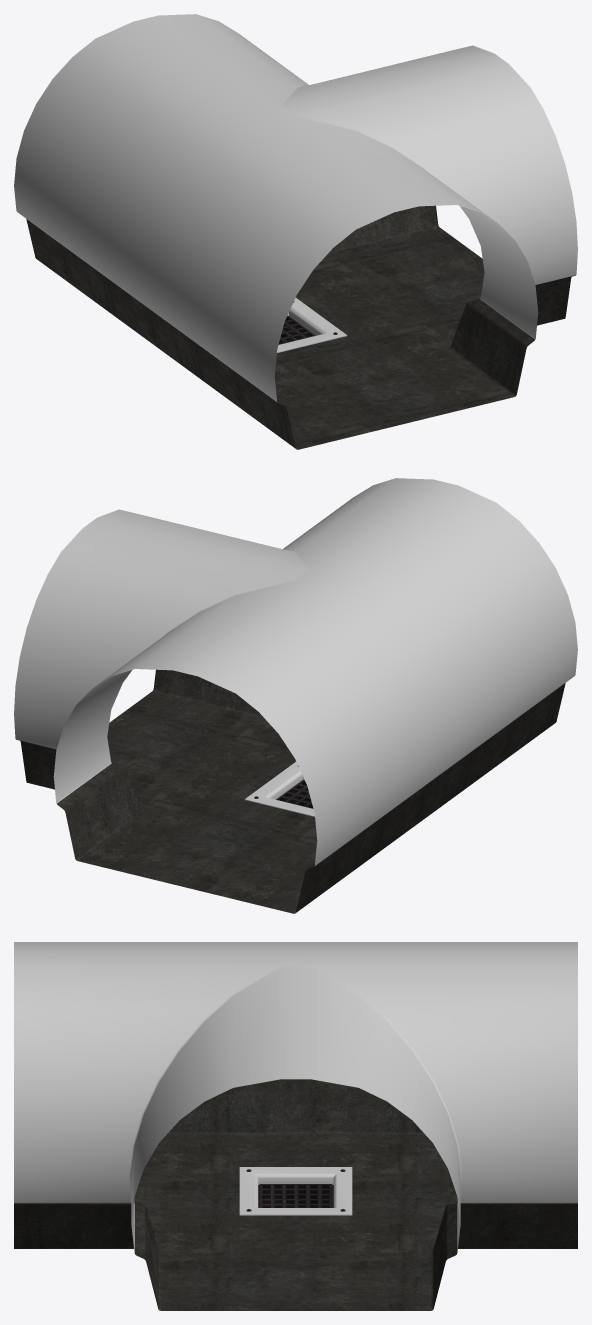
File: tunnel_junction_three_way.obj
3 renders of one model, top to bottom at view 1: azimuth 30°, elevation 25°; view 2: azimuth 150°, elevation 25°; view 3: azimuth 270°, elevation 25°, orthographic. The views are drawn at different scales.
Visible parts, largest first — view 1: tunnel_junction_three_way; view 2: tunnel_junction_three_way; view 3: tunnel_junction_three_way.
Part boxes in pixels (x1,y1,x2,y2): tunnel_junction_three_way: [14, 14, 577, 449]; tunnel_junction_three_way: [14, 478, 577, 913]; tunnel_junction_three_way: [14, 942, 577, 1310].
Bounding box in the file's own units: 4.75 × 2.82 × 6.
